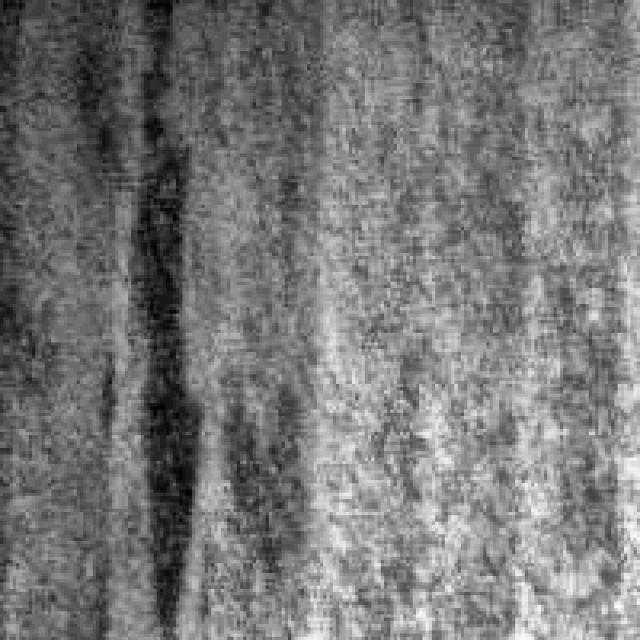Patches: (90, 48, 211, 634)
